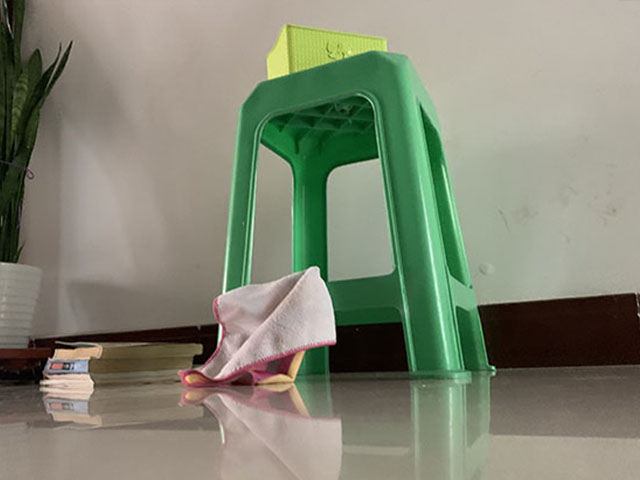book: (38, 338, 206, 388)
stool: (218, 47, 504, 388)
